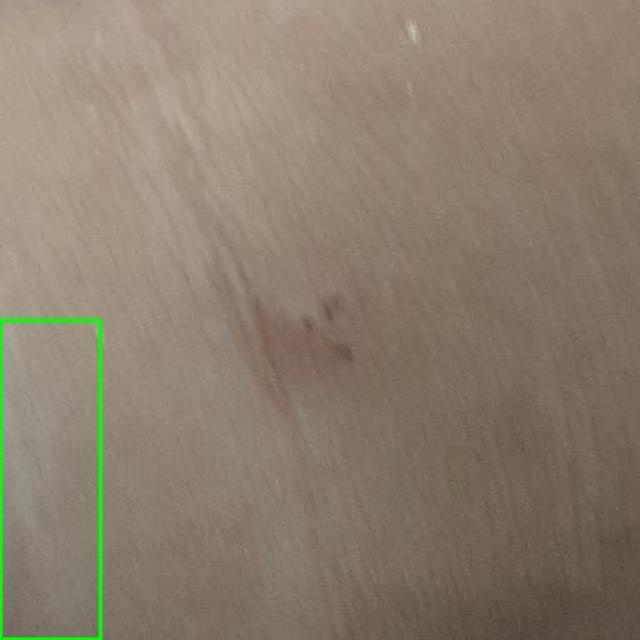Atopic Dermatitis: (0, 320, 100, 639)
